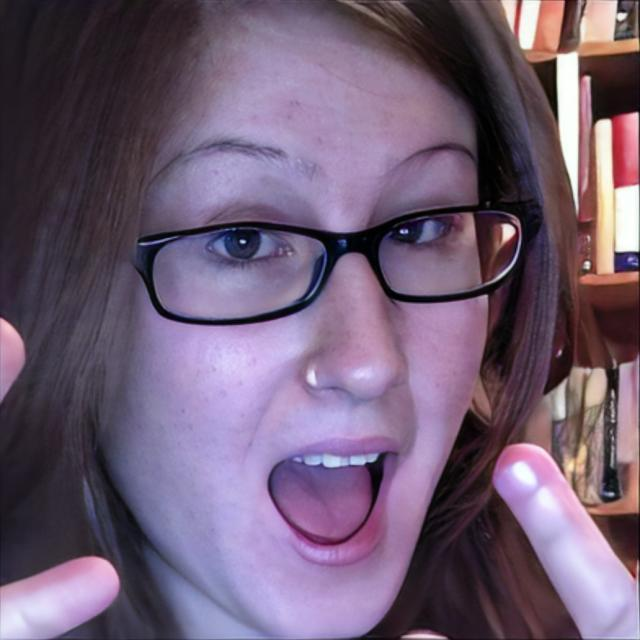surprise: (92, 0, 494, 640)
